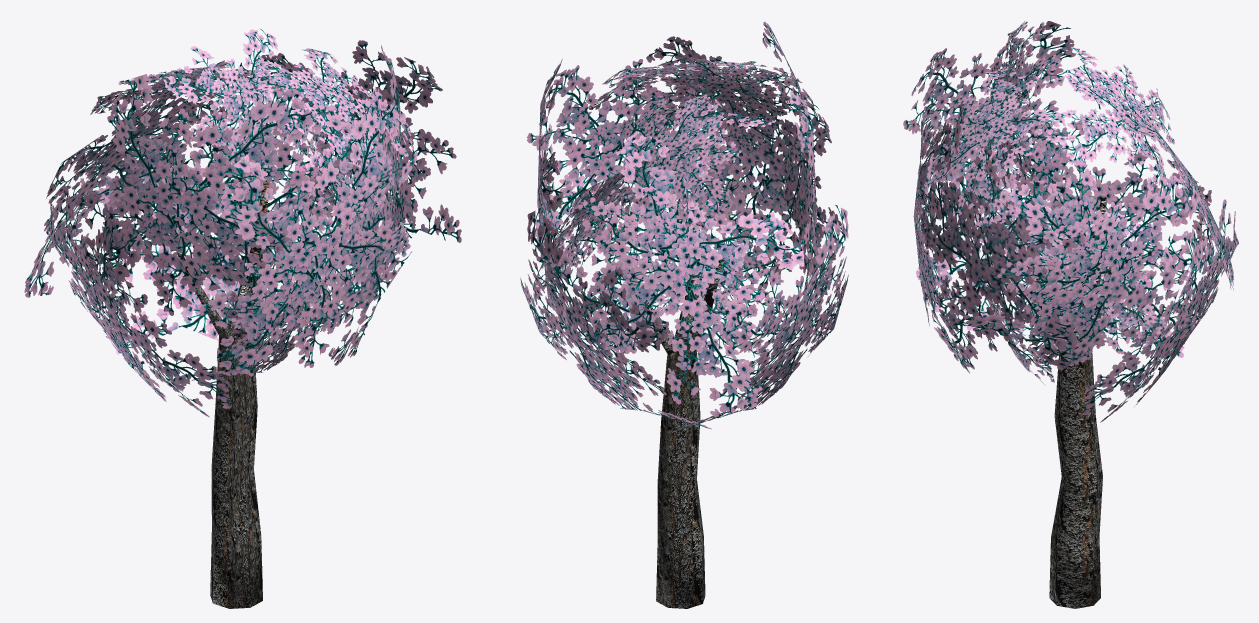
File: arbol-rosaRaro.fbx
3 renders of one model, left to right at view 1: azimuth 30°, elevation 25°; view 2: azimuth 150°, elevation 25°; view 3: azimuth 270°, elevation 25°, orthographic. The views are drawn at different scales.
Parts seen in each view (by area): view 1: Plane002, Plane005, Cylinder001, Plane011, Plane009, Plane010, Plane006, Plane004, Plane013, Plane003, Plane012, Plane008 (+1 smaller); view 2: Plane010, Cylinder001, Plane003, Plane013, Plane002, Plane011, Plane012, Plane006, Plane005, Plane008, Plane009, Plane007 (+1 smaller); view 3: Plane009, Plane003, Cylinder001, Plane005, Plane004, Plane013, Plane012, Plane011, Plane007, Plane002, Plane006, Plane010 (+1 smaller).
Boxes of the visible parts, left/top/right/bottom form: Plane002: left=199, top=91, right=417, bottom=376; Plane005: left=76, top=74, right=321, bottom=338; Cylinder001: left=169, top=180, right=269, bottom=608; Plane011: left=46, top=186, right=230, bottom=417; Plane009: left=238, top=40, right=461, bottom=270; Plane010: left=24, top=60, right=264, bottom=297; Plane006: left=163, top=29, right=320, bottom=195; Plane004: left=241, top=48, right=413, bottom=177; Plane013: left=80, top=110, right=387, bottom=354; Plane003: left=313, top=45, right=403, bottom=365; Plane012: left=90, top=65, right=303, bottom=124; Plane008: left=191, top=235, right=339, bottom=380; Plane010: left=536, top=131, right=804, bottom=417; Cylinder001: left=614, top=224, right=723, bottom=608; Plane003: left=527, top=56, right=739, bottom=296; Plane013: left=520, top=207, right=711, bottom=429; Plane002: left=645, top=36, right=846, bottom=295; Plane011: left=672, top=205, right=848, bottom=432; Plane012: left=614, top=93, right=775, bottom=227; Plane006: left=639, top=57, right=815, bottom=161; Plane005: left=757, top=21, right=818, bottom=308; Plane008: left=613, top=210, right=792, bottom=362; Plane009: left=537, top=59, right=595, bottom=349; Plane007: left=533, top=155, right=659, bottom=296; Plane009: left=948, top=161, right=1200, bottom=370; Plane003: left=919, top=102, right=1084, bottom=370; Cylinder001: left=1027, top=196, right=1111, bottom=608; Plane005: left=903, top=21, right=1103, bottom=295; Plane004: left=924, top=67, right=1070, bottom=226; Plane013: left=1083, top=199, right=1238, bottom=422; Plane012: left=1057, top=47, right=1174, bottom=194; Plane011: left=916, top=131, right=1211, bottom=357; Plane007: left=987, top=206, right=1167, bottom=354; Plane002: left=913, top=90, right=969, bottom=373; Plane006: left=984, top=21, right=1067, bottom=187; Plane010: left=1123, top=106, right=1233, bottom=289.
Size of the model in its own units: 2.46 by 3.81 by 2.2.
Materials: 2 (2 with a texture image).
